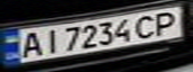2: (78, 21, 103, 51)
3: (97, 19, 118, 47)
4: (112, 16, 136, 43)
7: (60, 24, 81, 53)
A: (15, 29, 45, 58)
C: (130, 12, 163, 39)
I: (36, 27, 60, 55)
P: (148, 9, 184, 36)
